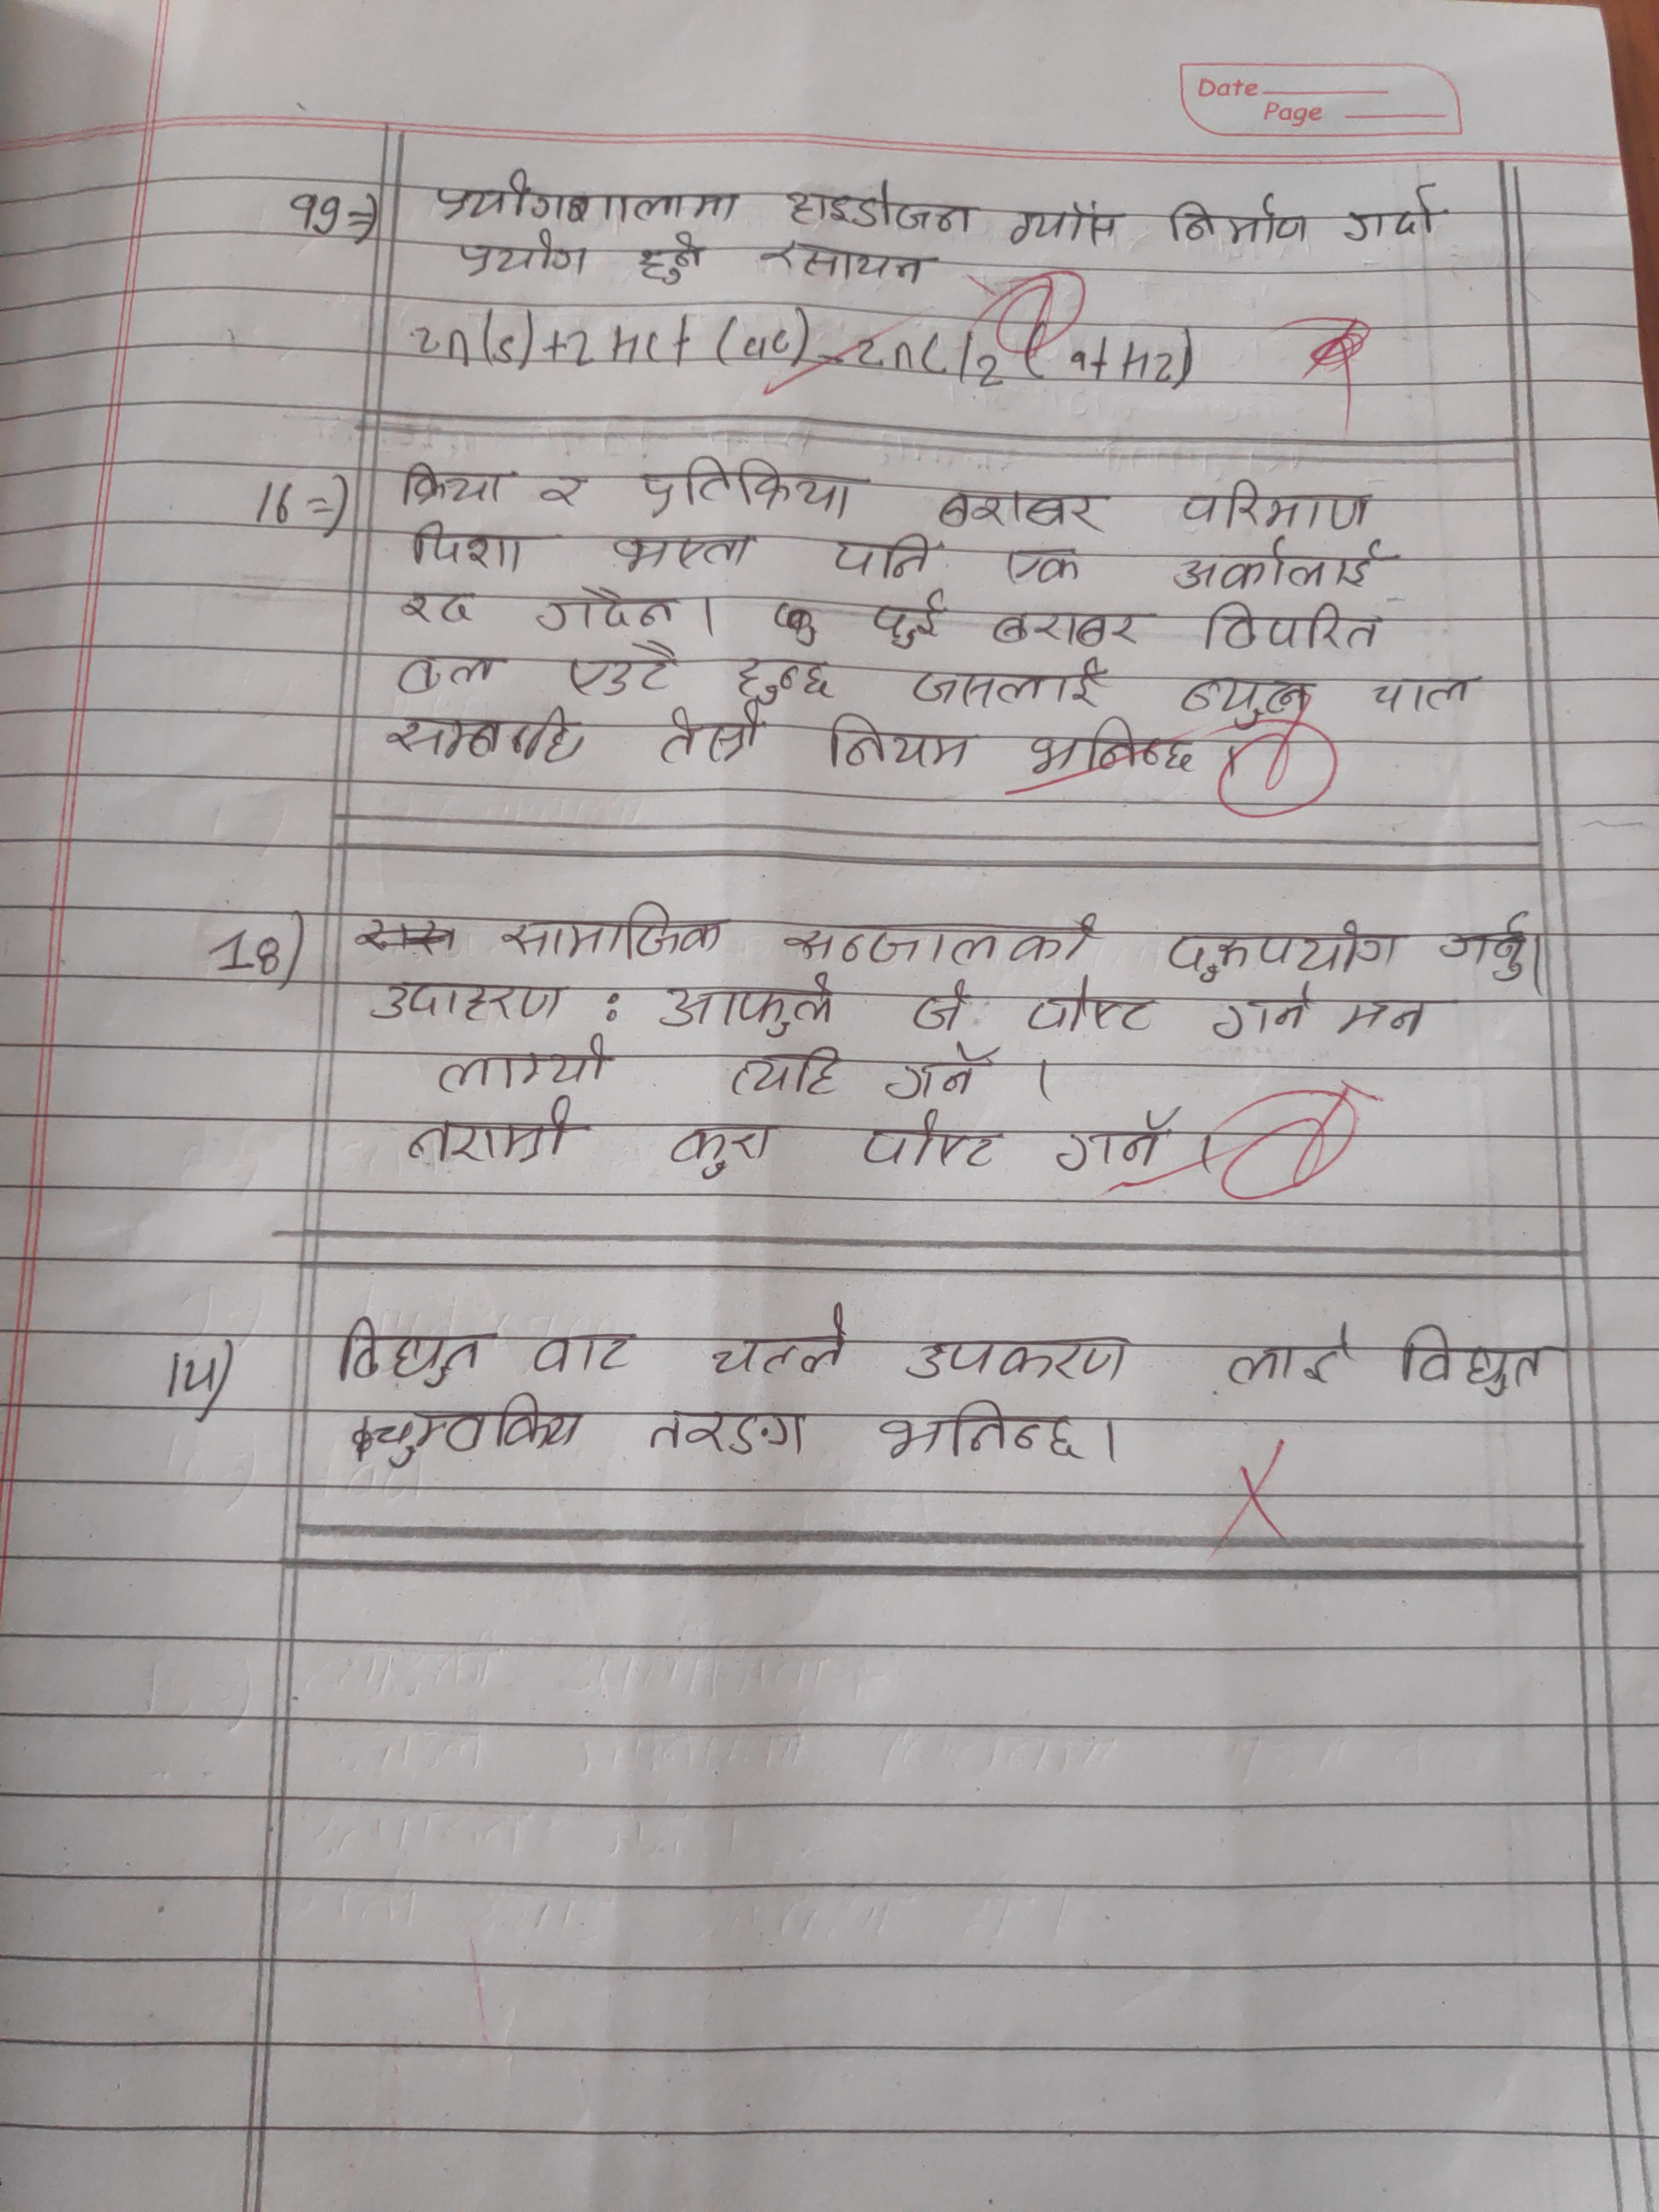text: (772, 906, 1112, 965), (356, 1393, 587, 1468), (1161, 916, 1410, 984), (422, 172, 755, 223), (875, 1395, 1098, 1467), (641, 453, 864, 523), (378, 697, 587, 770), (500, 897, 732, 961), (403, 1092, 591, 1169), (1394, 1313, 1556, 1400), (333, 1308, 500, 1392), (781, 174, 985, 237), (897, 1336, 1140, 1388), (657, 968, 831, 1040), (371, 972, 573, 1033), (906, 655, 1108, 712), (1175, 538, 1396, 590), (1030, 714, 1197, 782), (1178, 475, 1380, 531), (708, 1301, 852, 1378), (638, 1402, 819, 1463), (432, 1031, 613, 1090), (1201, 599, 1387, 655), (1171, 664, 1317, 733), (854, 1108, 1007, 1174), (824, 711, 976, 773), (1222, 1318, 1356, 1388), (1051, 1103, 1173, 1177), (723, 1033, 854, 1101), (451, 223, 592, 286), (931, 481, 1103, 531), (756, 239, 936, 286), (1162, 195, 1312, 251), (1021, 975, 1154, 1036), (525, 589, 690, 636), (660, 1120, 782, 1183), (650, 704, 772, 765), (992, 599, 1143, 648), (565, 639, 685, 700), (1427, 914, 1534, 982), (1211, 977, 1317, 1045), (606, 531, 760, 578), (1338, 185, 1448, 249), (831, 519, 943, 580), (725, 643, 835, 704), (410, 519, 530, 573), (525, 1324, 640, 1379), (1006, 199, 1126, 251), (403, 458, 523, 510), (884, 1042, 990, 1099), (864, 585, 951, 653), (390, 646, 502, 698), (1366, 664, 1478, 714), (1328, 988, 1436, 1036), (913, 975, 976, 1042), (999, 540, 1079, 589), (634, 230, 708, 282), (396, 589, 481, 632), (538, 467, 596, 514)
